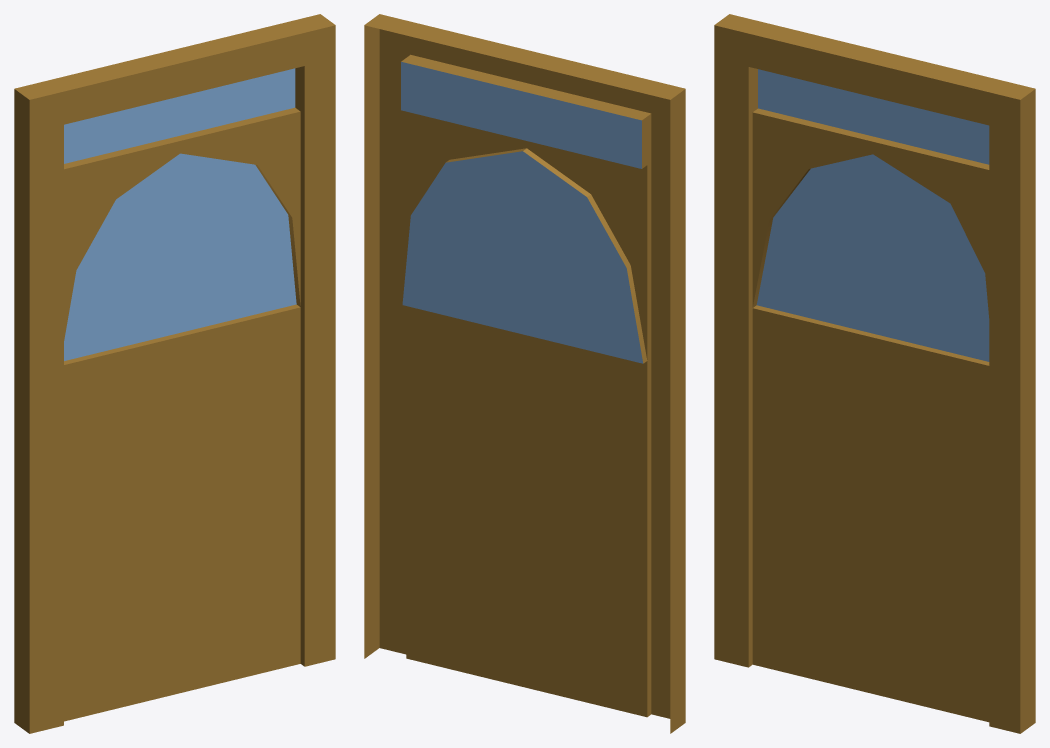
The model's file is Puerta_03.fbx.
The picture shows the model from 3 angles, left to right: view 1: azimuth 30°, elevation 25°; view 2: azimuth 150°, elevation 25°; view 3: azimuth 330°, elevation 25°; orthographic projection.
Visible parts, largest first — view 1: polySurface8; view 2: polySurface8; view 3: polySurface8.
Part boxes in pixels (box(x1,y1,x2,y2)): polySurface8: box(14, 14, 335, 733); polySurface8: box(364, 14, 685, 733); polySurface8: box(714, 14, 1035, 733).
Bounding box in the file's own units: 217 × 430 × 18.86.
